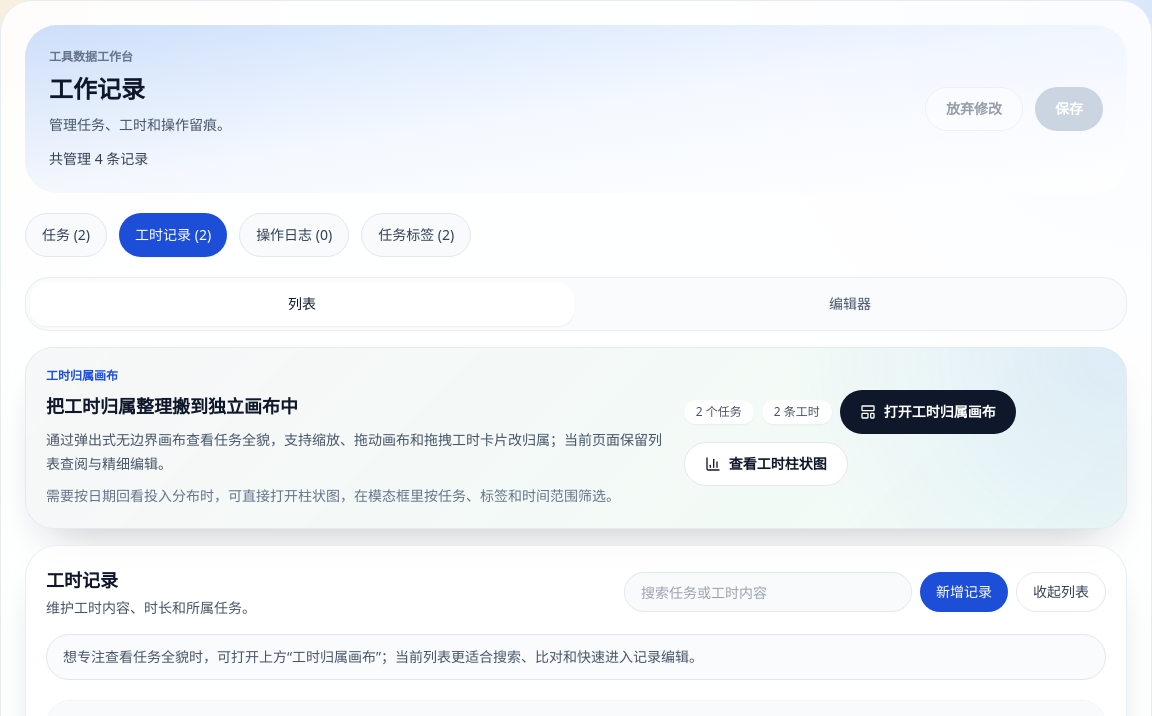
it: ToolWorkspace › 画布支持按任务状态和标签多选筛选任务节点
Earlier steps of the test are not shown.
What coordinates should you click on to do the following:
click the button "打开工时归属画布"
I would click on:
 (928, 412)
Its box is left=840, top=390, right=1016, bottom=434.
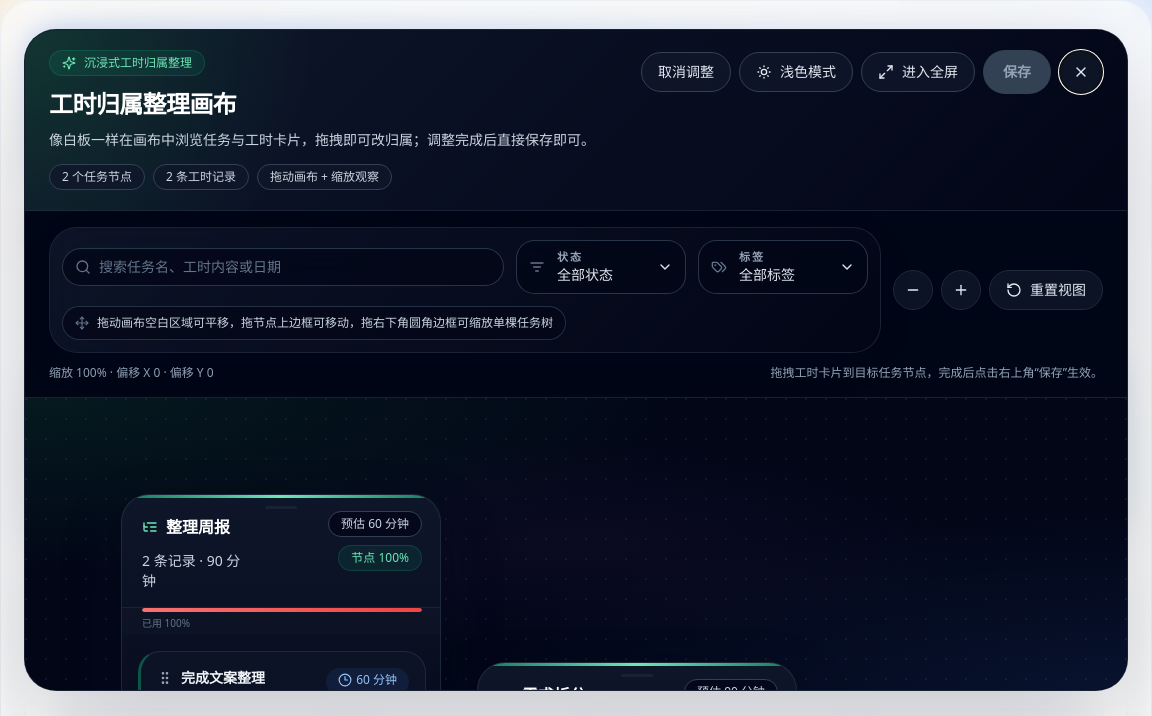
What coordinates should you click on to do the following:
click the button with aria-label "按任务状态筛选"
I would click on:
 (601, 267)
Its box is left=516, top=240, right=686, bottom=294.
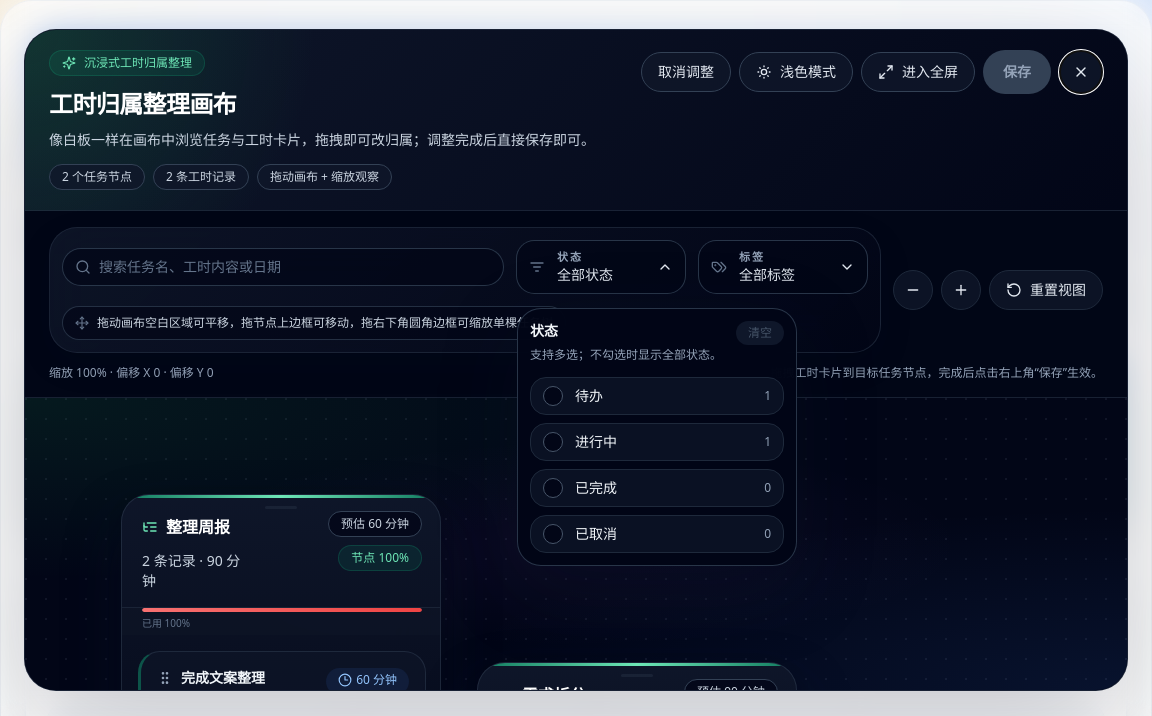
What coordinates should you click on to do the following:
click the checkbox labelled "进行中"
I would click on:
 (657, 442)
Its box is left=530, top=423, right=784, bottom=461.
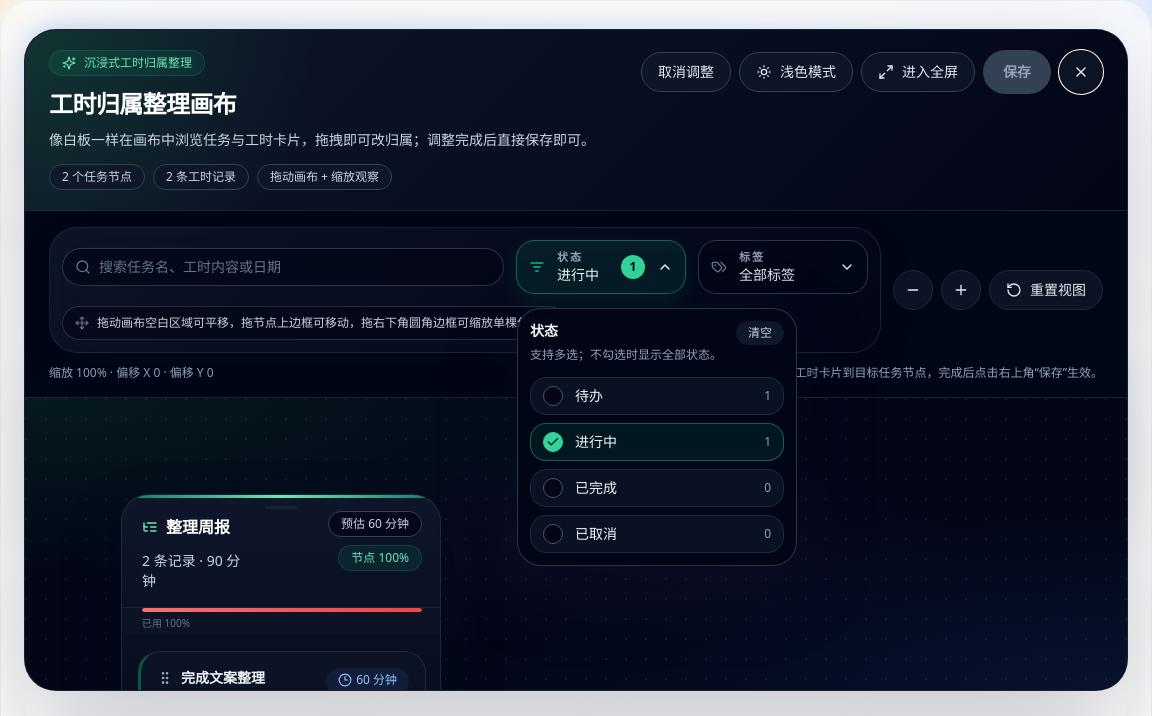
Now the button with aria-label "按任务状态筛选" shows "进行中", box left=516, top=240, right=686, bottom=294
What coordinates should you click on to do the following:
click the button with aria-label "清空状态筛选"
I would click on:
 (760, 333)
Its box is left=736, top=321, right=784, bottom=345.
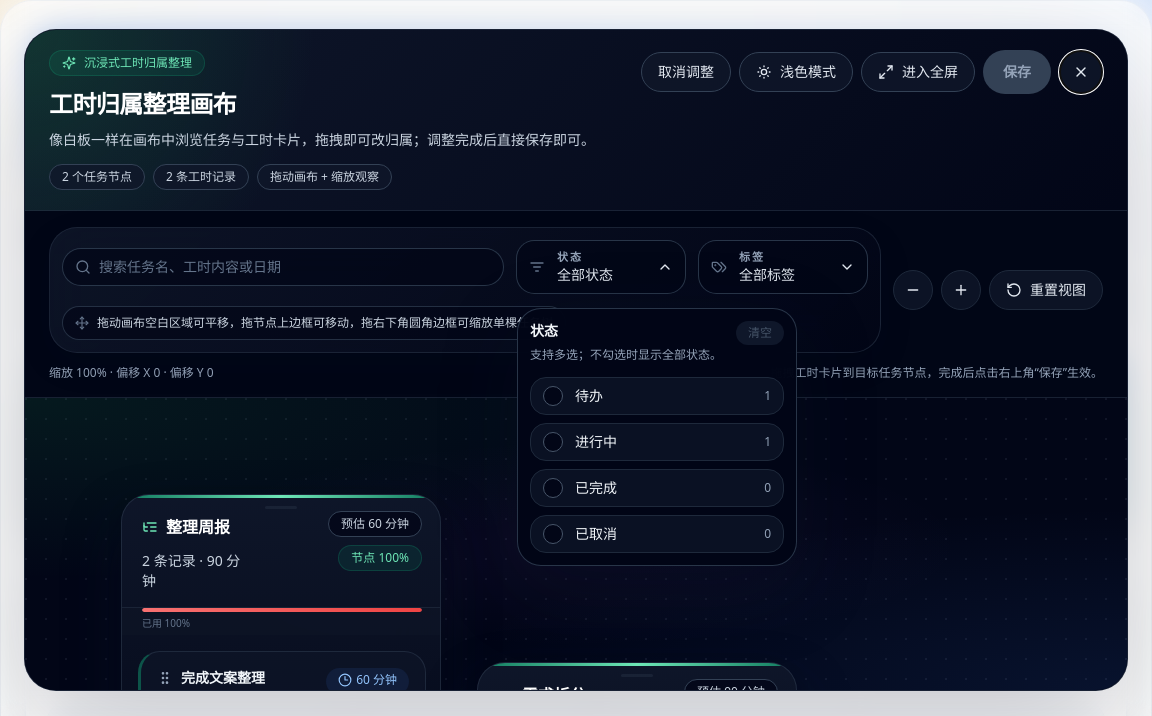
What coordinates should you click on to do the following:
click the button with aria-label "按任务标签筛选"
I would click on:
 (783, 267)
Its box is left=698, top=240, right=868, bottom=294.
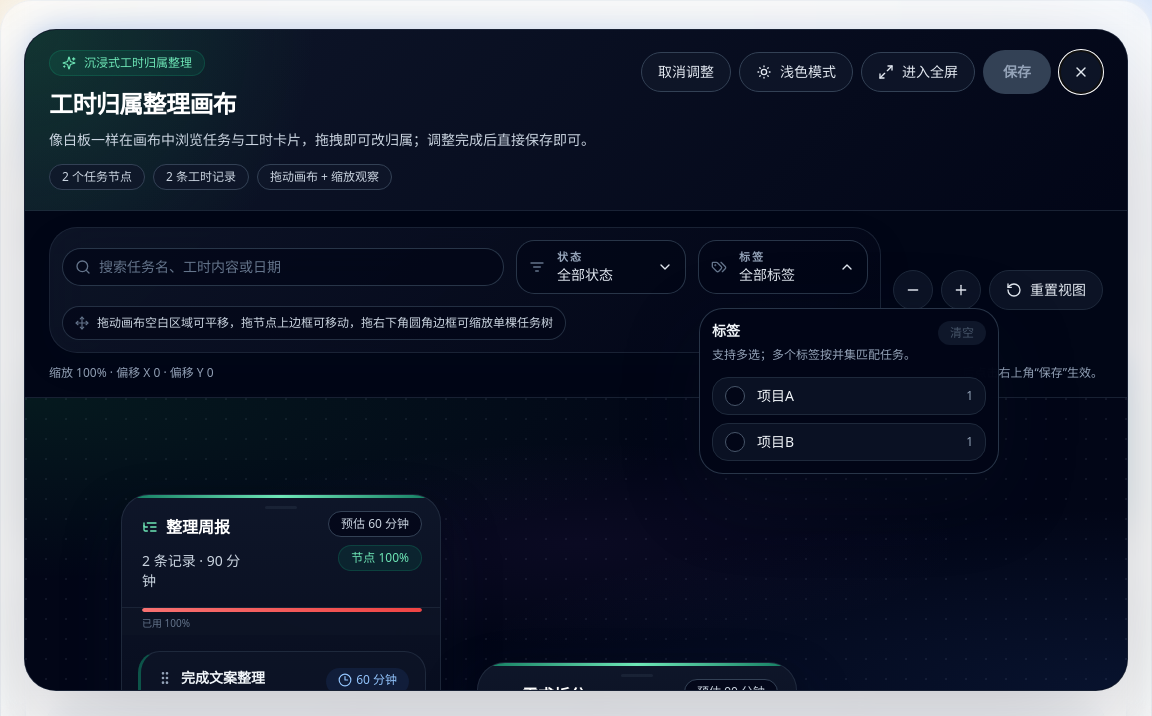
What coordinates should you click on to do the following:
click the checkbox labelled "项目B"
I would click on:
 (776, 441)
Its box is left=712, top=423, right=986, bottom=461.
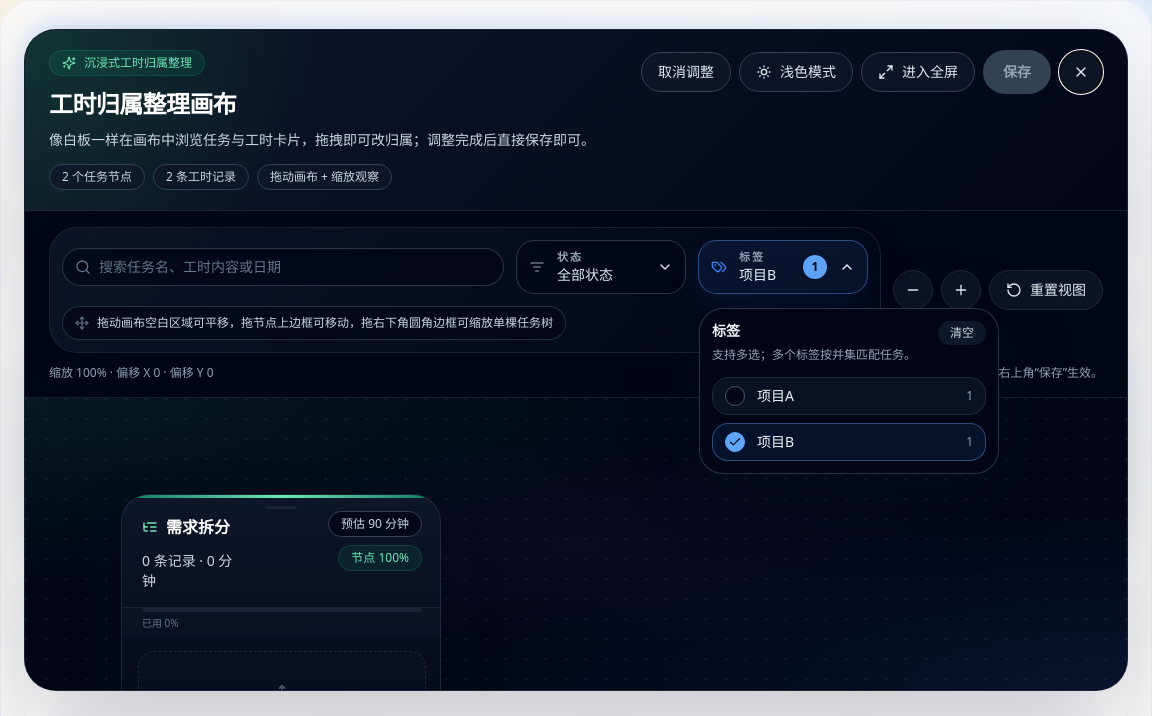
Now the element named "工时画布节点 需求拆分" is shown, box left=121, top=494, right=441, bottom=690
Now the button with aria-label "按任务标签筛选" shows "项目B", box left=698, top=240, right=868, bottom=294
